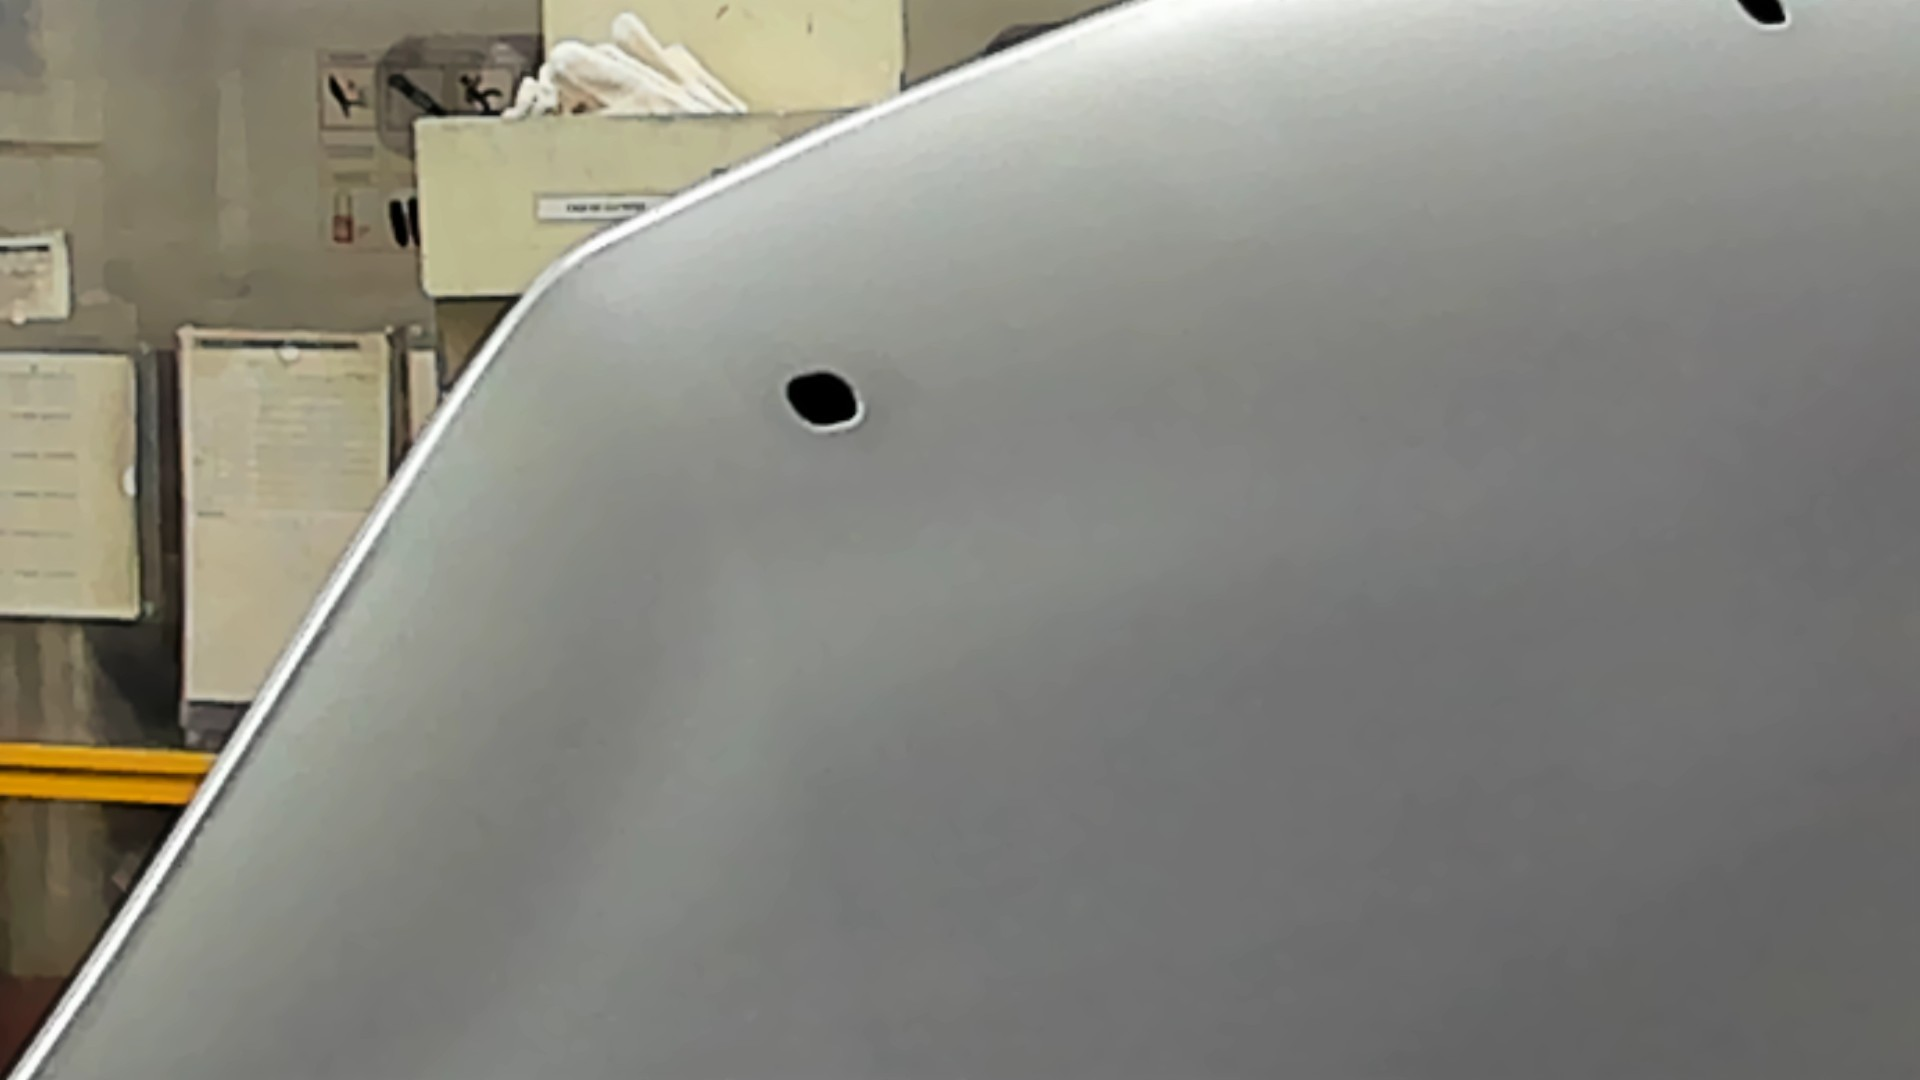amorfo: (773, 364, 873, 450), (1727, 1, 1797, 36)
capo: (1013, 88, 1920, 1080)
